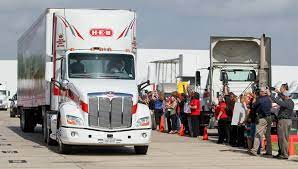truck: (16, 8, 151, 153)
